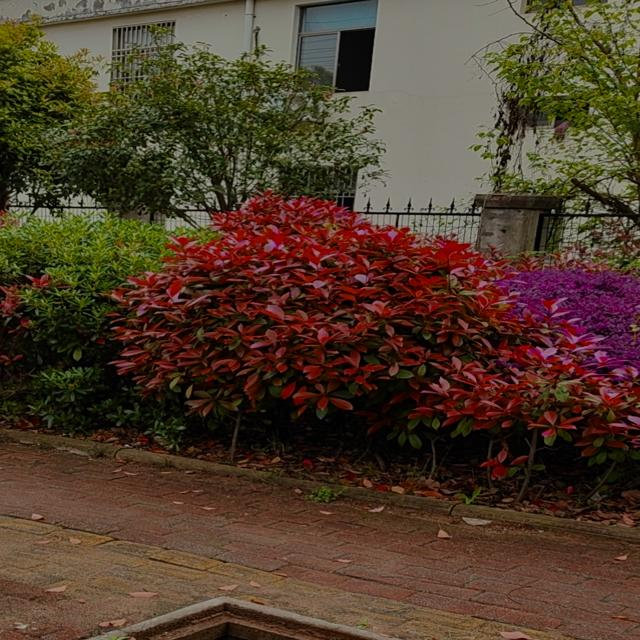lose: (72, 574, 496, 640)
